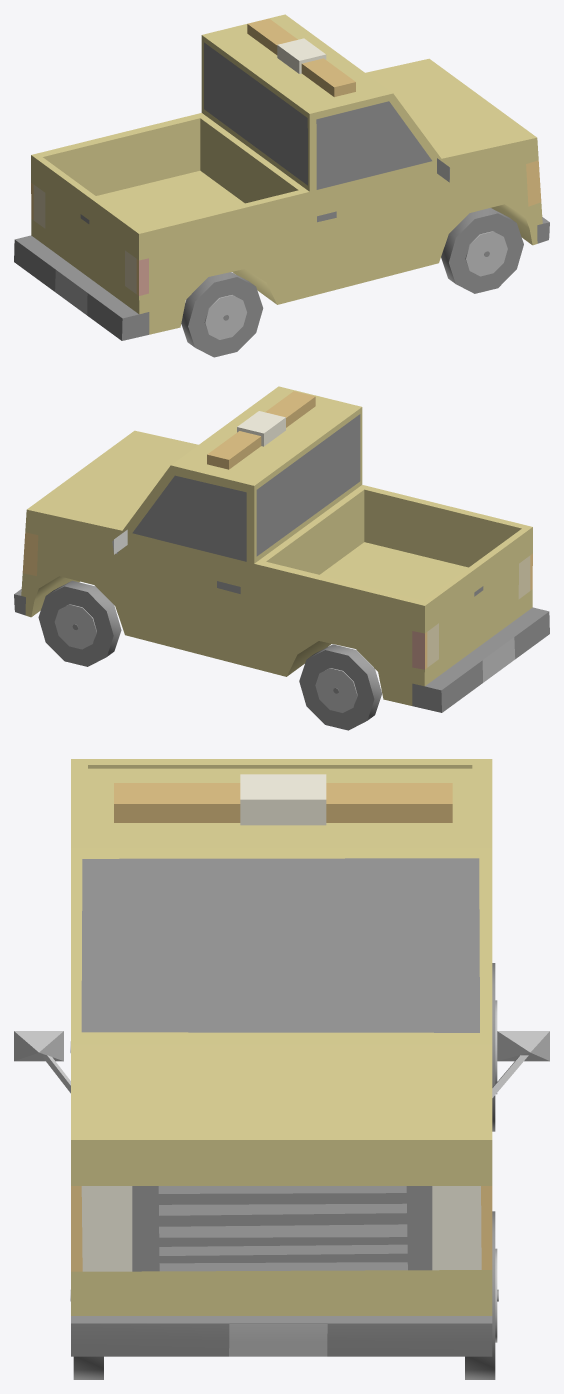
Rendered from kar_14.fbx.
The picture shows the model from 3 angles, top to bottom: view 1: azimuth 30°, elevation 25°; view 2: azimuth 150°, elevation 25°; view 3: azimuth 270°, elevation 25°; orthographic projection. The views are drawn at different scales.
Visible parts, largest first — view 1: Cube, Cylinder_6, Cylinder_9; view 2: Cube, Cylinder_8, Cylinder_7; view 3: Cube, Cylinder_7, Cylinder_8, Cylinder_6.
Boxes of the visible parts, <box> form: Cube: <box>14,14,549,340</box>; Cylinder_6: <box>441,208,523,293</box>; Cylinder_9: <box>181,272,263,357</box>; Cube: <box>14,386,549,712</box>; Cylinder_8: <box>299,644,381,730</box>; Cylinder_7: <box>38,580,121,666</box>; Cube: <box>14,759,549,1356</box>; Cylinder_7: <box>465,1211,498,1379</box>; Cylinder_8: <box>492,963,497,1131</box>; Cylinder_6: <box>70,1290,103,1379</box>.
Bounding box in the file's own units: 435 × 227 × 242.
